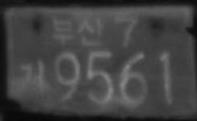1: (151, 50, 179, 104)
5: (86, 50, 112, 105)
6: (118, 51, 148, 104)
7: (113, 15, 139, 47)
9: (53, 51, 80, 102)
거: (20, 59, 44, 96)
부산_O: (52, 16, 105, 46)
